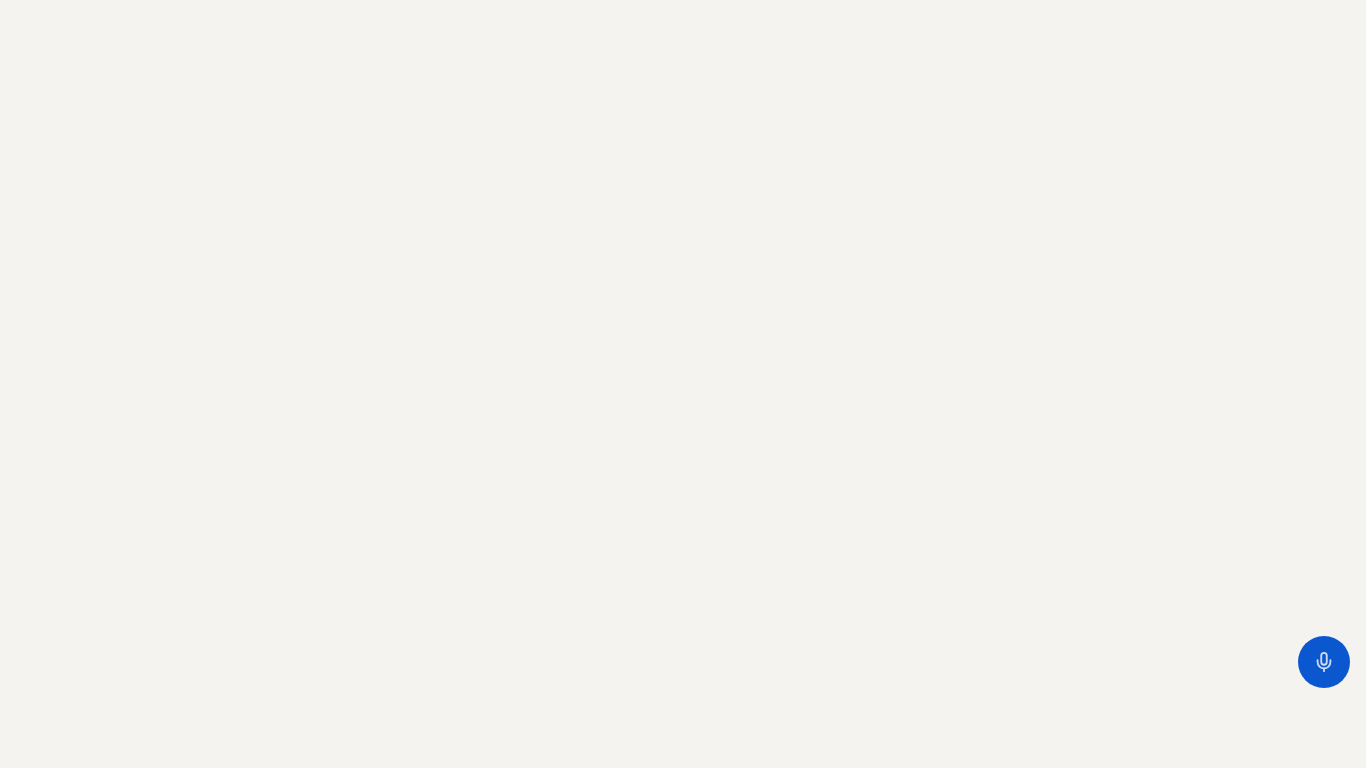
Test: モックの疑似録音 › 少し待つと確認のモーダルが出て、確定すると次の欄の録音に移る
Later steps or results of the test are not shown.
Click the button named "音声入力を開始": (1324, 662) [1298,636,1350,688]
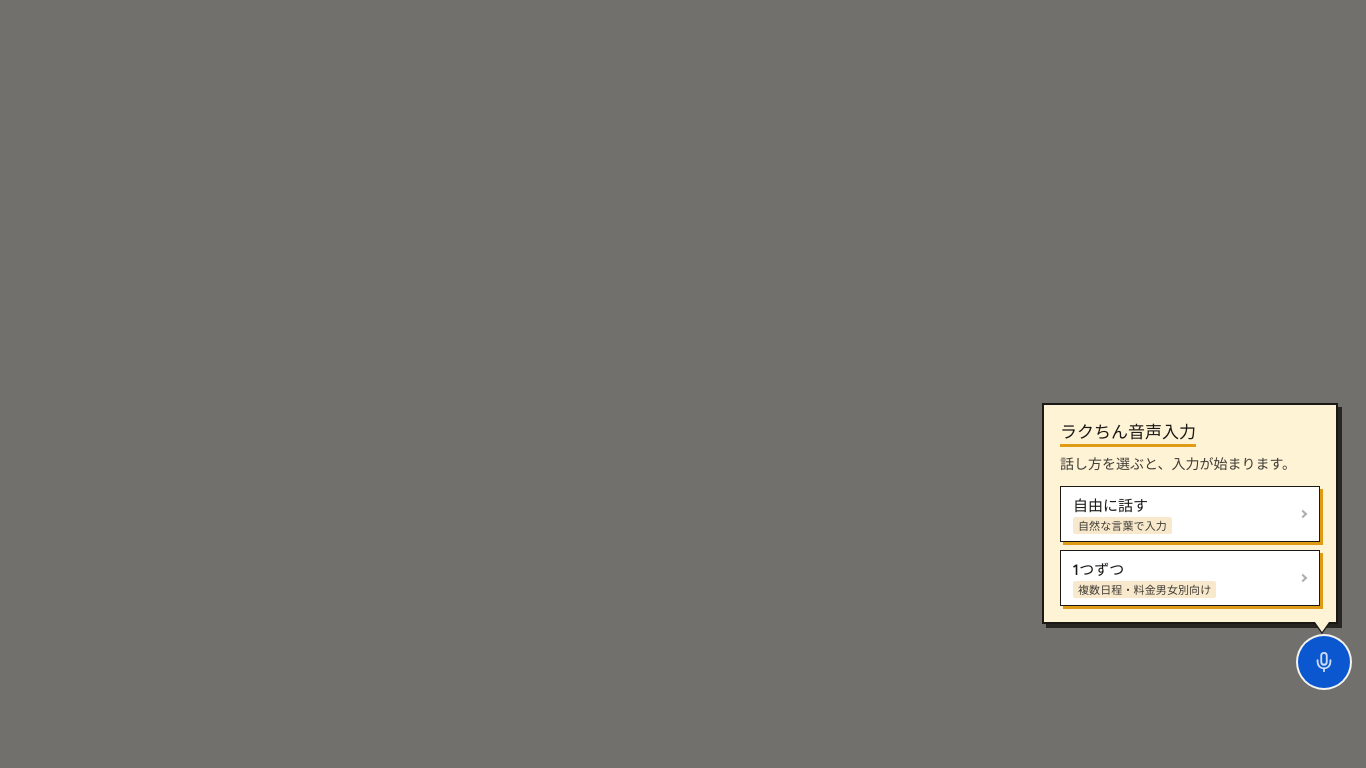
Click the button "1つずつ 複数日程・料金男女別向け": (1099, 569) [1060,550,1320,606]
Wait 1550 ms
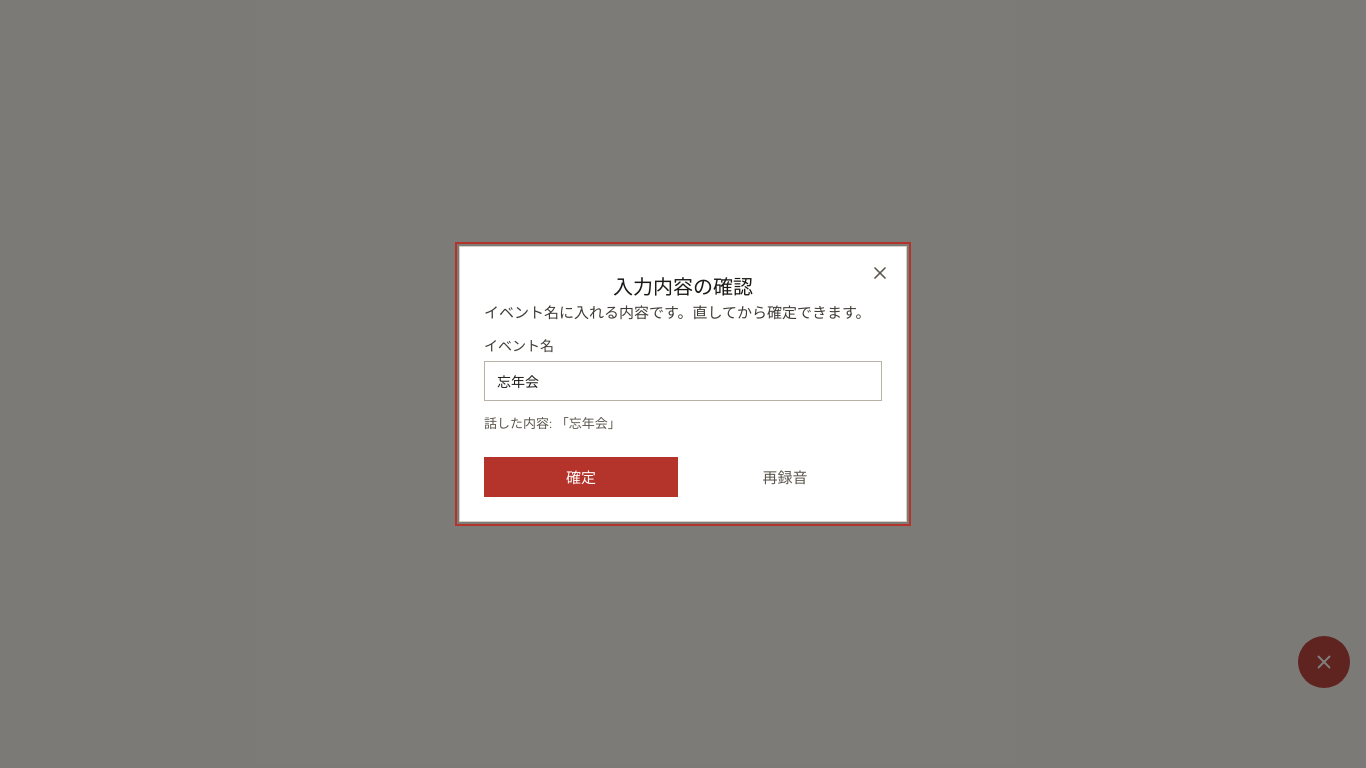
Check: the heading "入力内容の確認" is shown, box [613,271,753,300]
Check: the field holds "忘年会", box [484,361,882,401]
